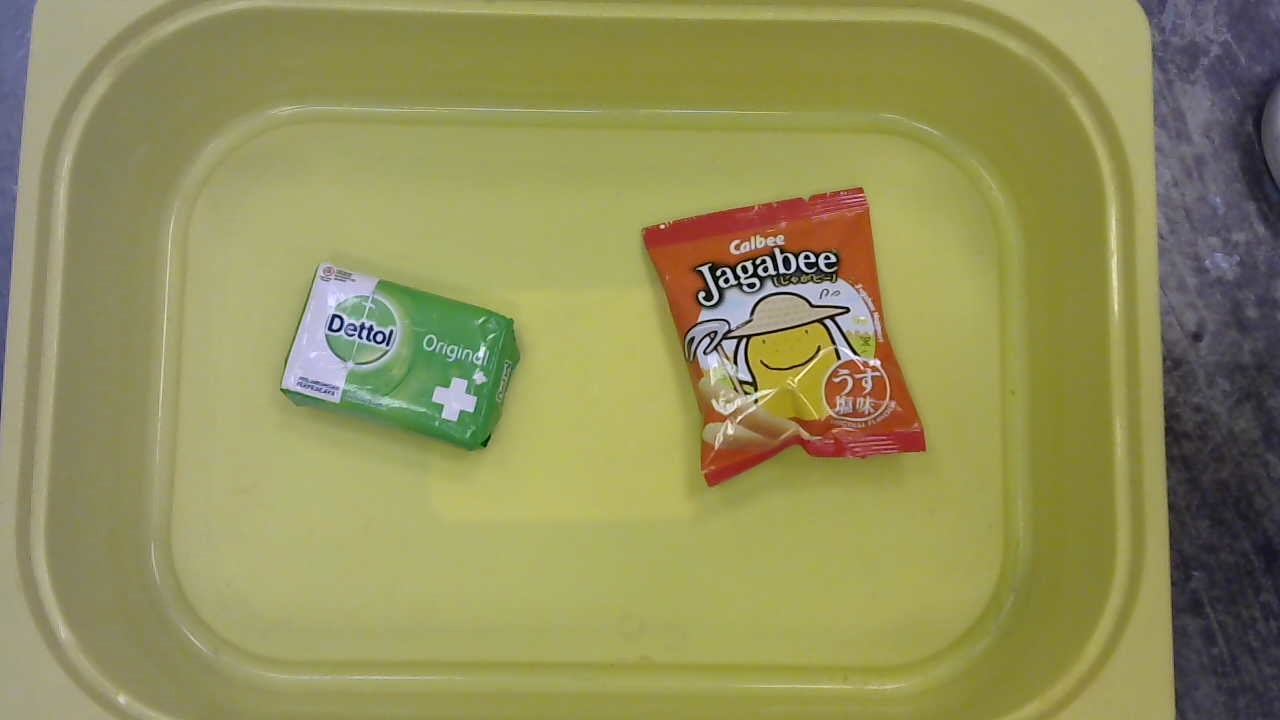Dettol: (274, 258, 524, 461)
JagabeeFarmer: (634, 186, 933, 488)
